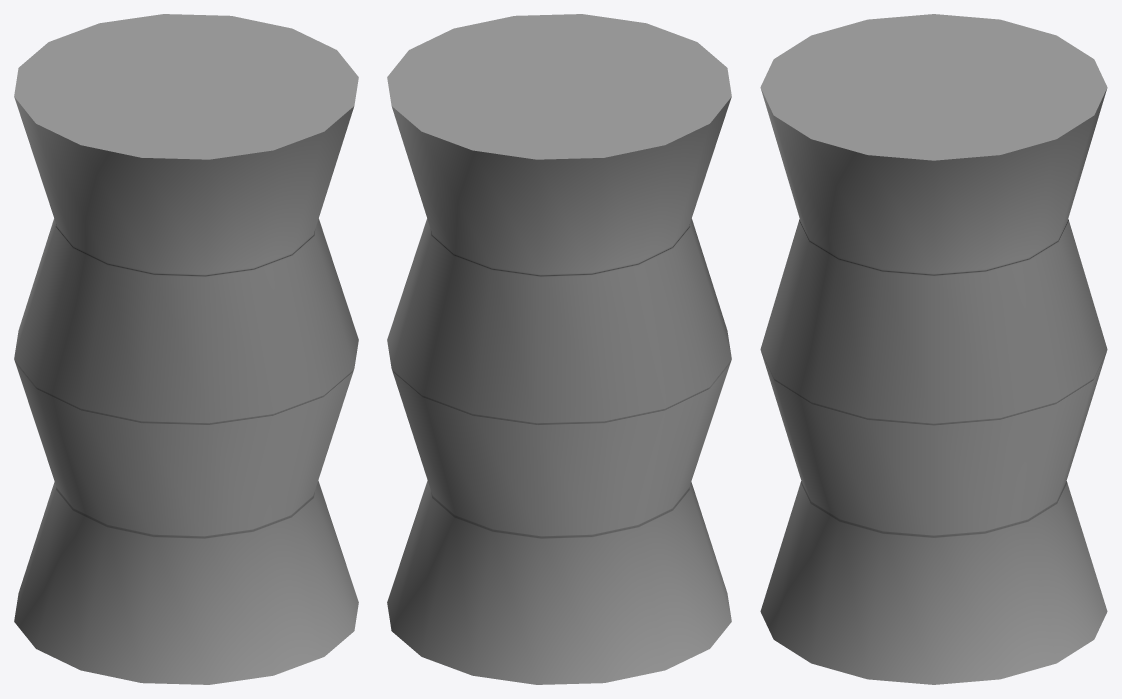
File: FountainSupport.fbx
3 renders of one model, left to right at view 1: azimuth 30°, elevation 25°; view 2: azimuth 150°, elevation 25°; view 3: azimuth 270°, elevation 25°, orthographic.
Visible parts, largest first — view 1: Support; view 2: Support; view 3: Support.
Part boxes in pixels (x1,y1,x2,y2): Support: (14, 14, 358, 684); Support: (387, 14, 731, 684); Support: (760, 14, 1107, 684).
Bounding box in the file's own units: 60 × 100 × 60.
Materials: 1 (1 with a texture image).
